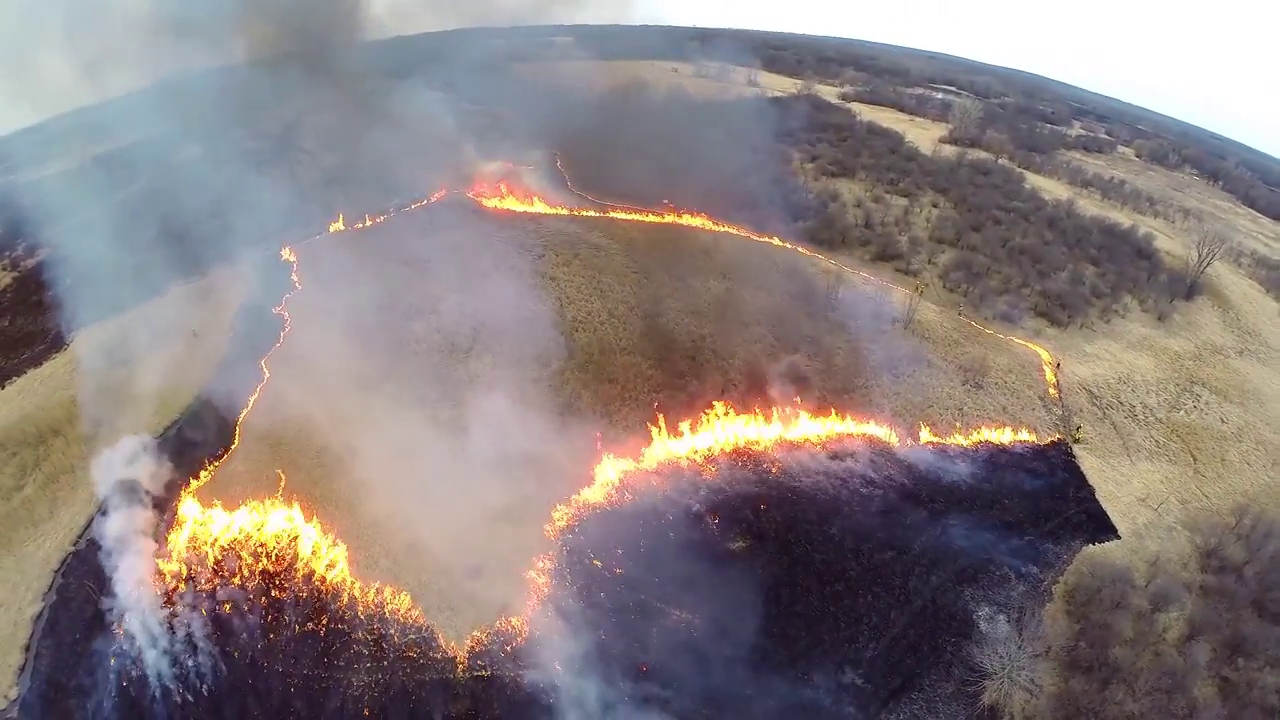forest_fire: (157, 246, 423, 619), (544, 400, 1047, 538), (465, 182, 878, 281), (962, 317, 1060, 400), (468, 555, 549, 646), (311, 190, 448, 239)
